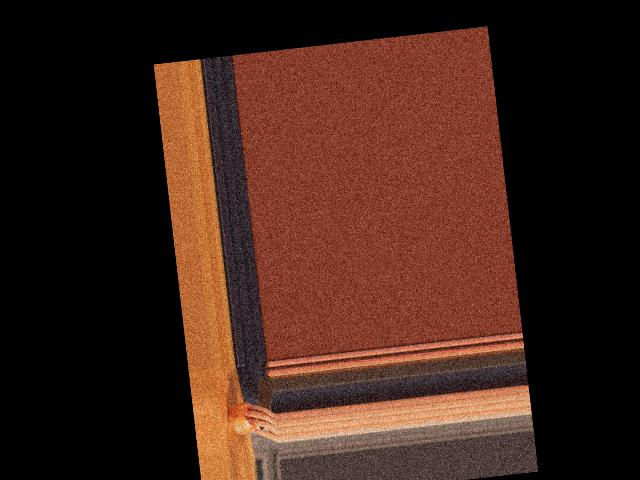onion: (226, 401, 260, 435)
